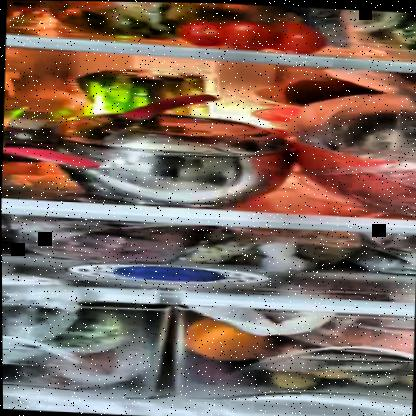lemon: (275, 367, 324, 391)
orange: (183, 318, 279, 362)
